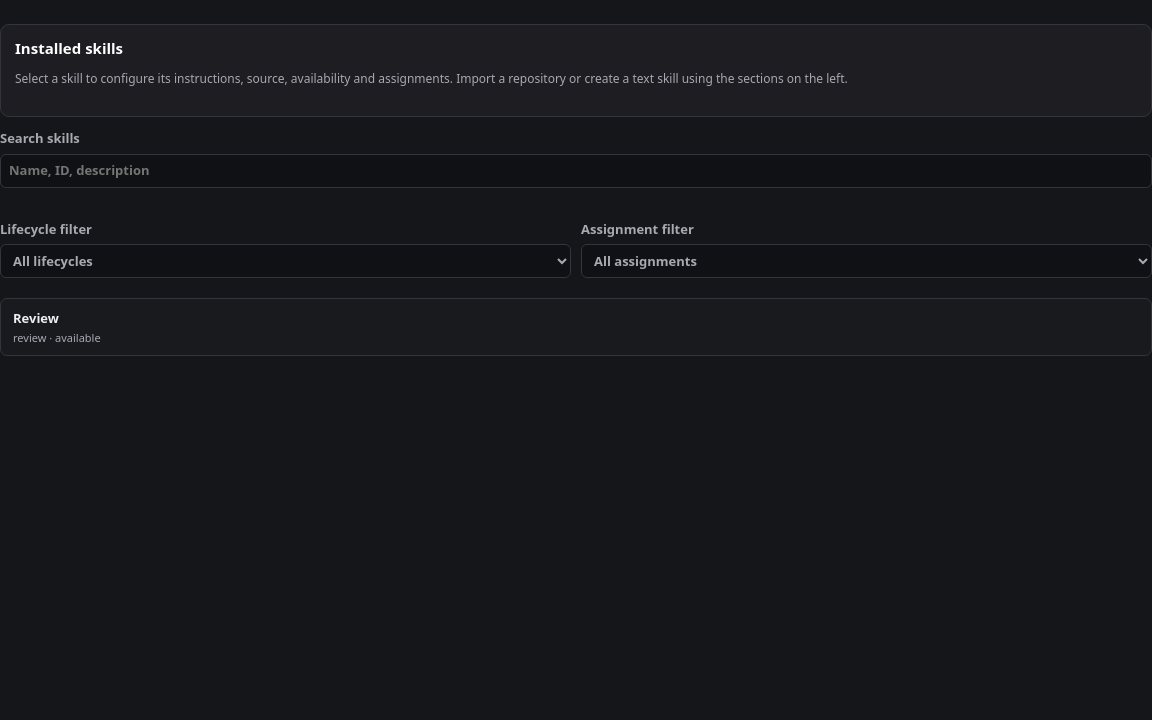
Test: keeps upstream content out of editable fields and does not request evidence
The width and height of the screenshot is (1152, 720).
Click the button "Review review · available".
click(36, 318)  # box [13,309,1139,345]
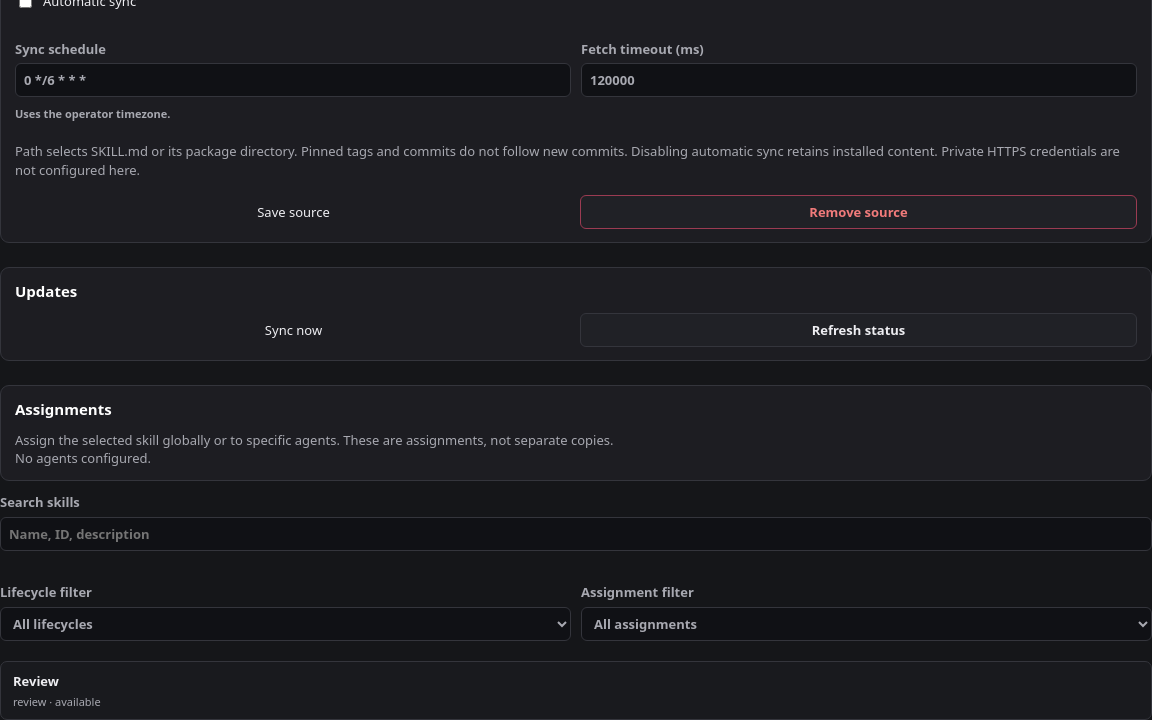
Check: the text "No agents configured." is shown, box [15,449,151,467]
